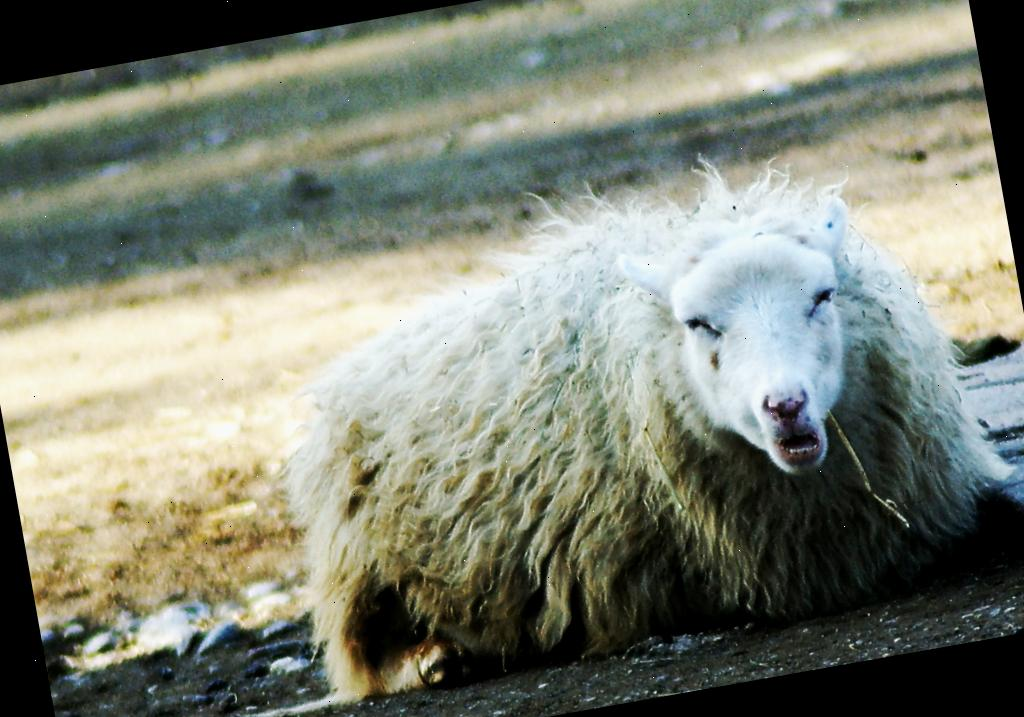Sheep: (169, 104, 1024, 717)
